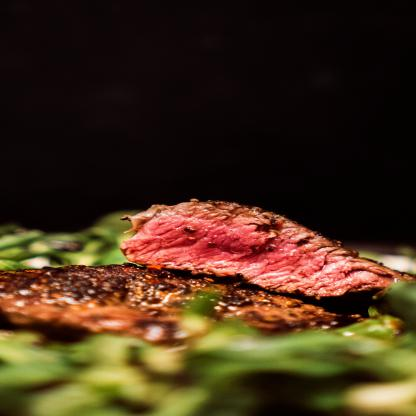Carne: (115, 196, 402, 308), (1, 267, 339, 332)
